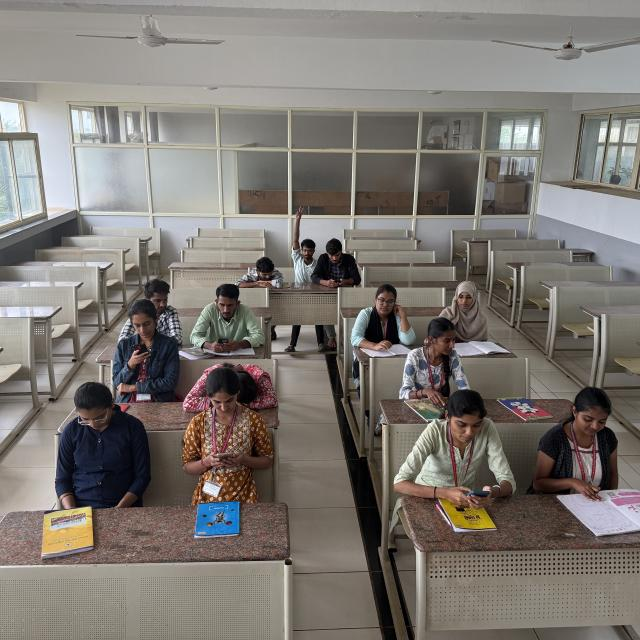Hand Rising: (288, 204, 321, 286)
Reading: (537, 386, 636, 524), (441, 279, 509, 355), (352, 284, 415, 362)
Sleeping: (188, 359, 282, 412), (233, 256, 288, 294)
Using Phone: (403, 387, 522, 507), (50, 382, 153, 508), (180, 362, 276, 494), (100, 294, 177, 392), (193, 281, 264, 353), (317, 240, 365, 294)
